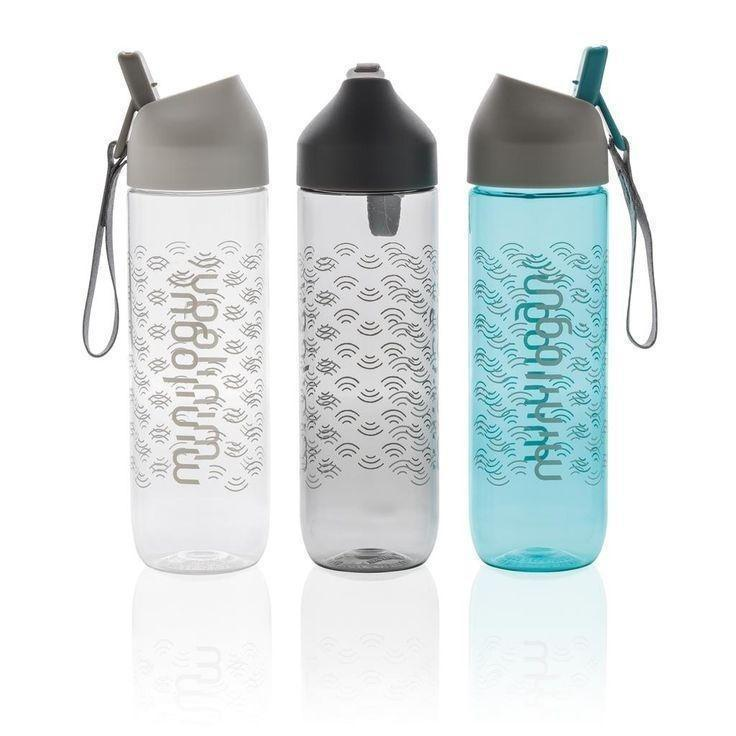gym bottle: (457, 46, 623, 574), (118, 48, 281, 580), (287, 60, 443, 578)
